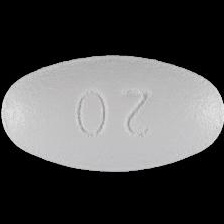0179-0215: (0, 0, 224, 224)
